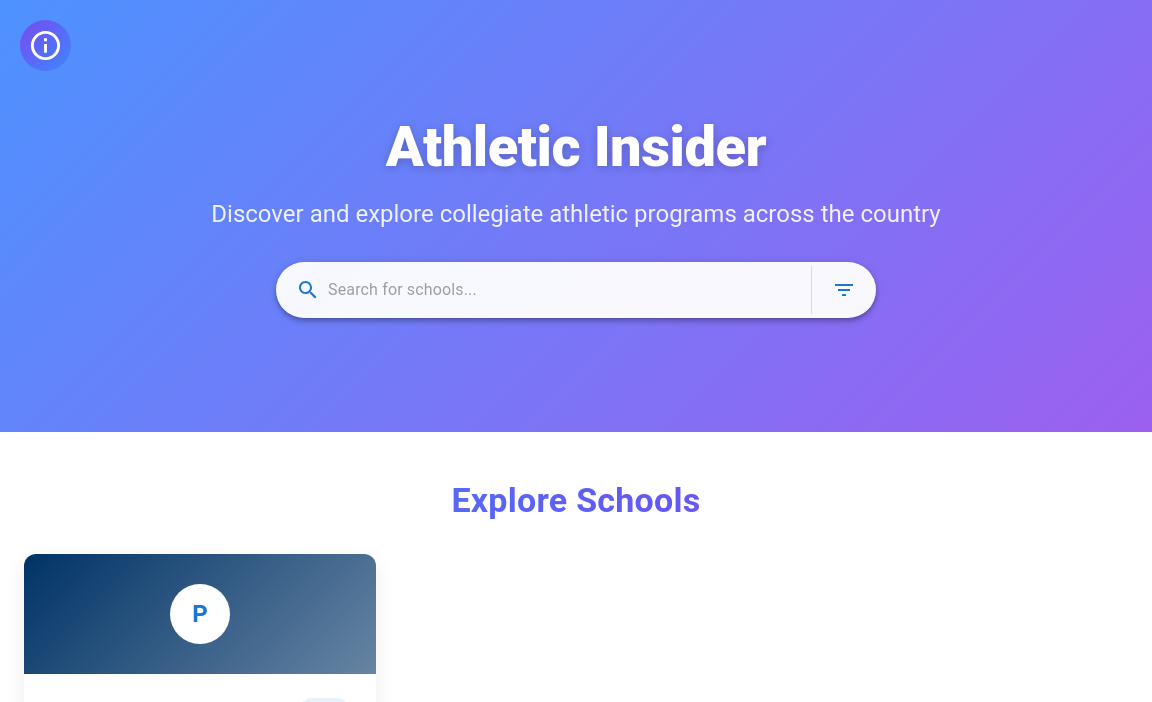
Test case: Home Filter Feature › opens and closes filter dialog in Home component
The image size is (1152, 702).
# Click the Filters button
Click the button named "Filters". click: (844,290)
box: [824, 266, 864, 314]
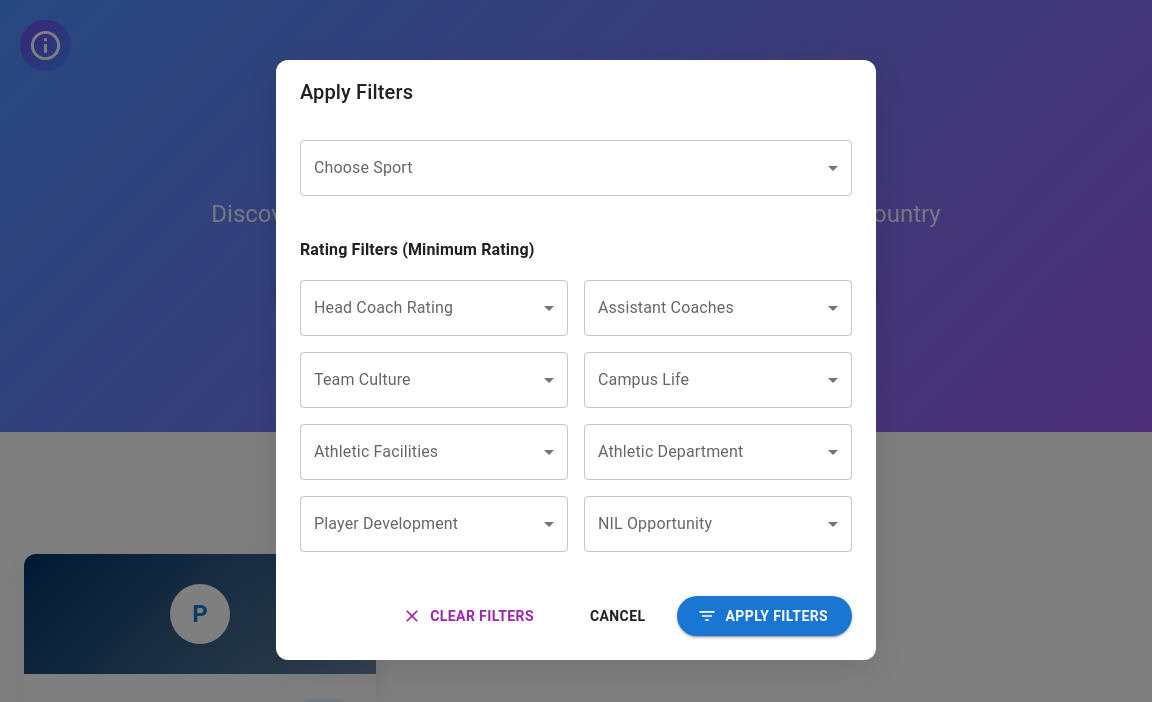
Expected: the dialog is shown, [276, 60, 876, 660]
Expected: the heading "Rating Filters (Minimum Rating)" is shown, [300, 240, 534, 259]
Expected: the dropdown named "Choose Sport" next to "Choose Sport" is shown, [300, 140, 852, 196]
# Click the Apply Filters button
Click the button with test id "apply-filters-button". click: (765,616)
box: [678, 596, 852, 636]
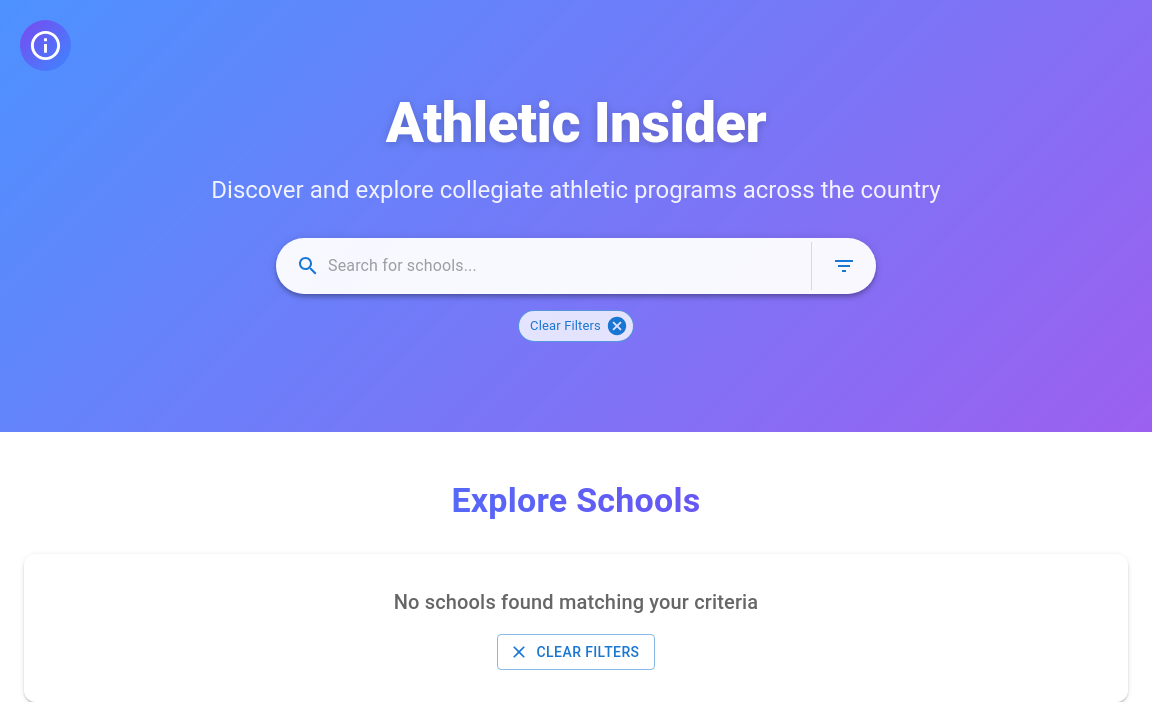
Expected: the dialog is gone
